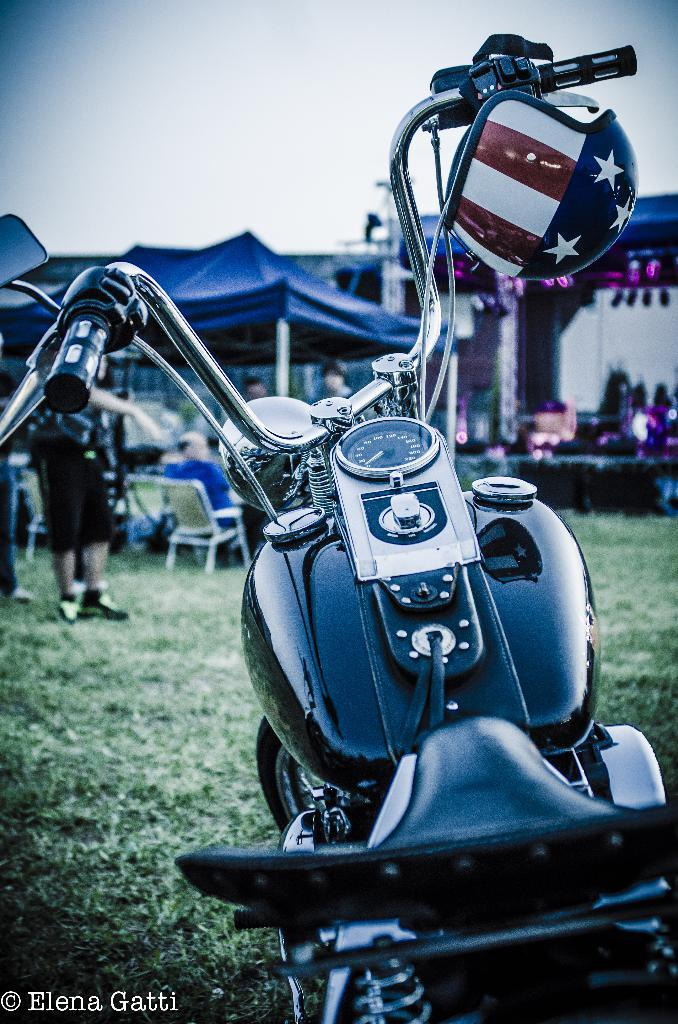helmet: (443, 89, 639, 281)
